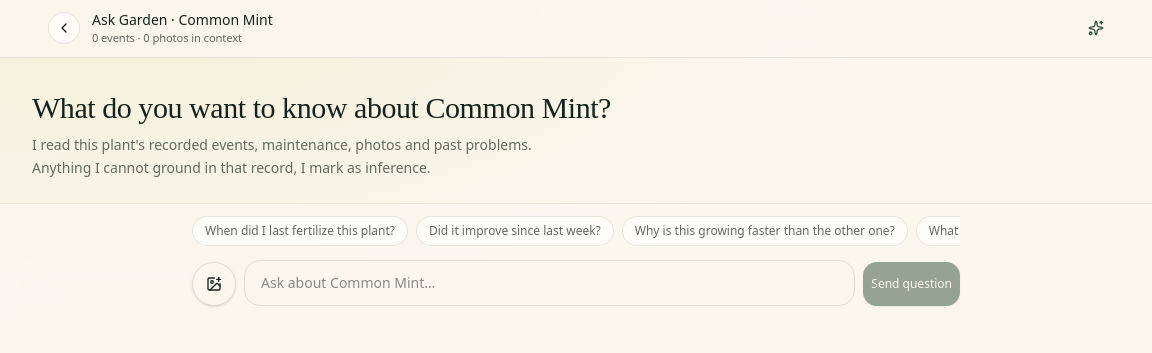
Test case: plant-scoped Ask Garden real route composer › asks which plant 'the other' means instead of inventing a comparison
Type "Why does it grow faster than the other?" into the field with placeholder "Ask about Common Mint…". click: (550, 283)
box: [244,260,855,306]
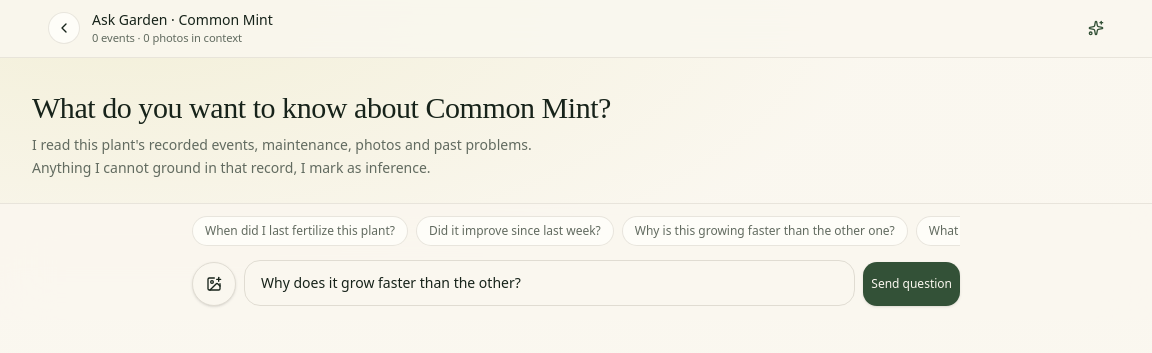
Submit the form with placeholder "Ask about Common Mint…", box [192,260,960,306]
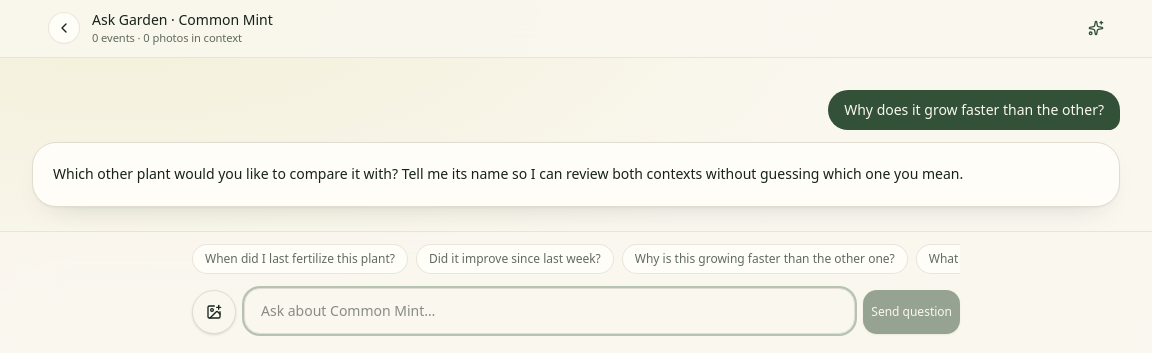
Expected: the list item "Which other plant would you like to compare it with" is shown, [53,164,963,183]
